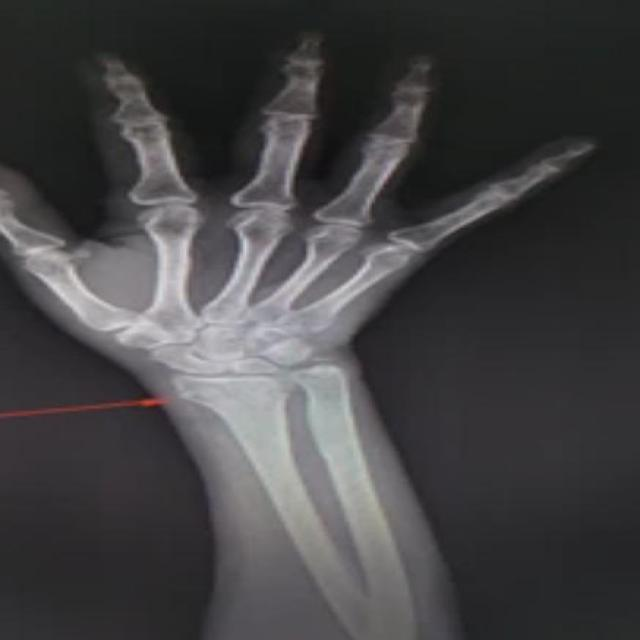bone: (165, 367, 248, 414)
